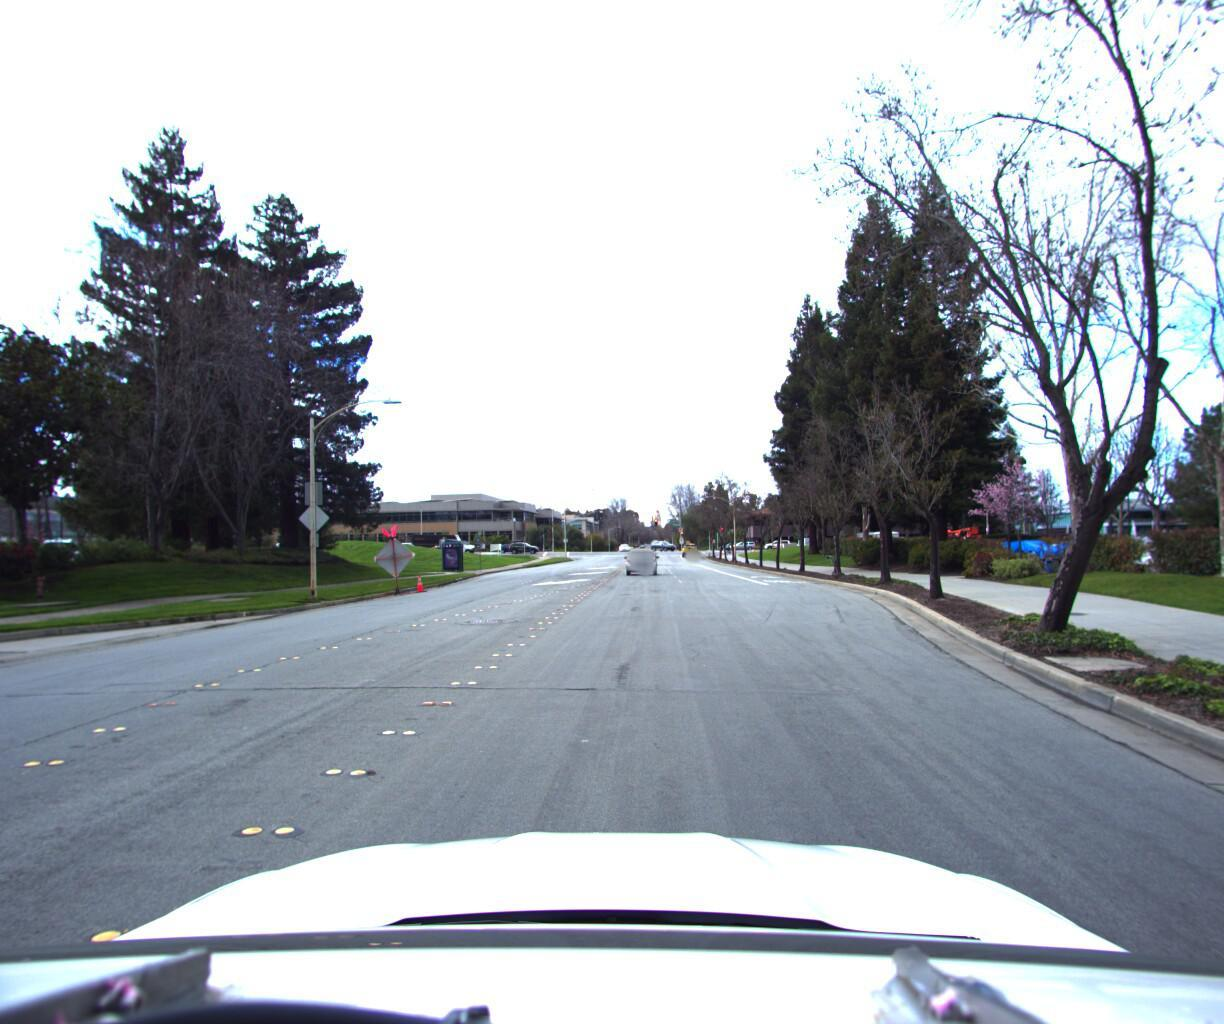car: (624, 541, 660, 571)
